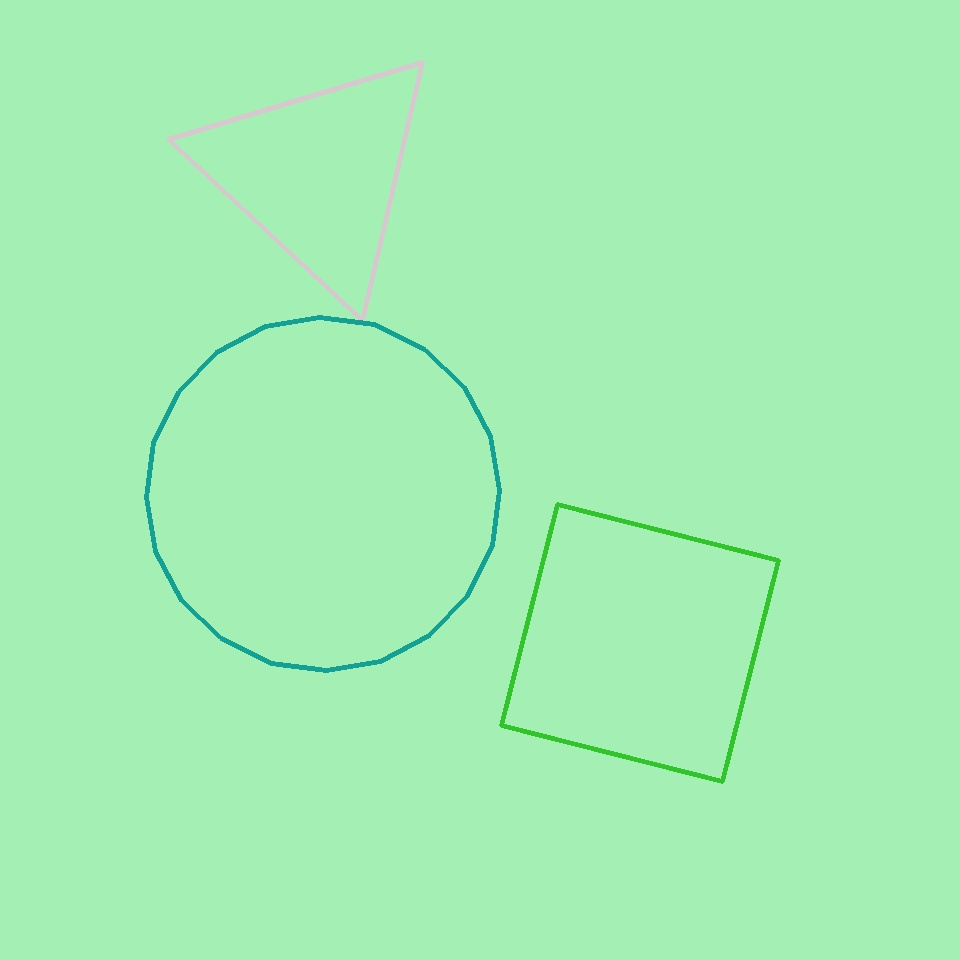circle: (191, 45, 445, 303)
square: (501, 504, 778, 782)
triangle: (146, 317, 500, 670)
